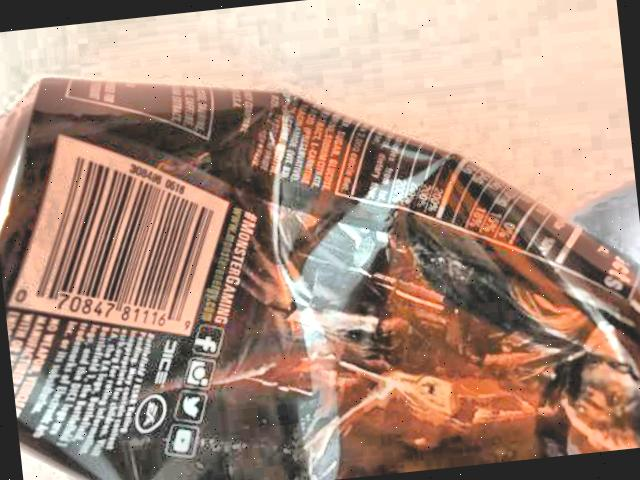Bottles: (0, 7, 640, 480)
